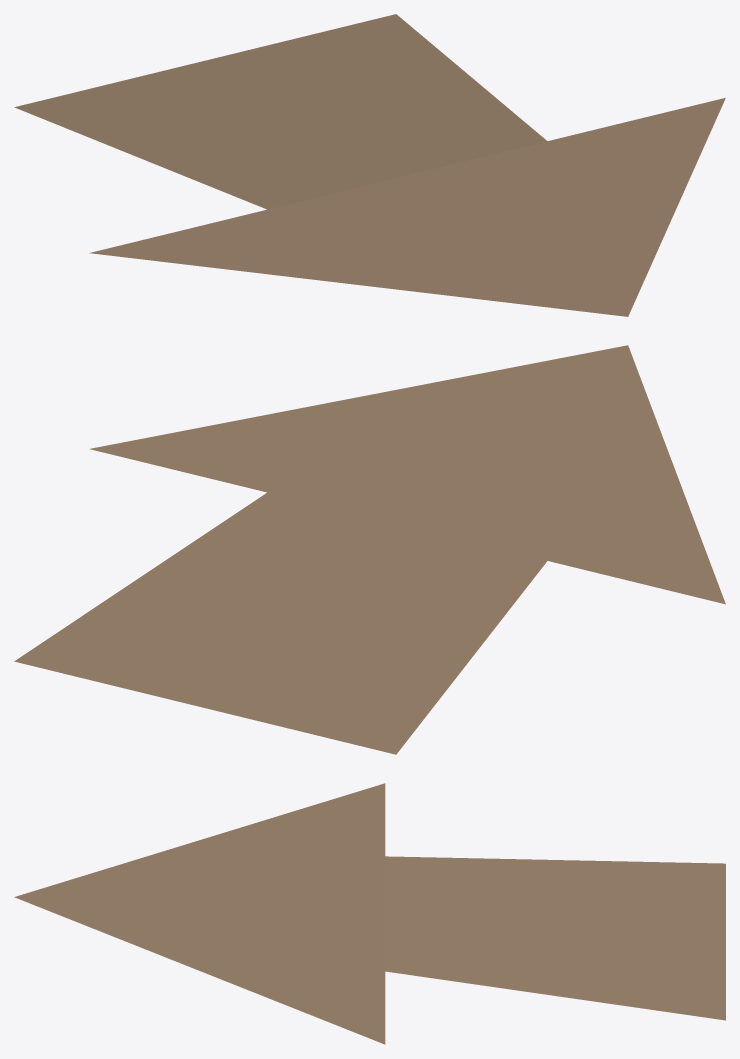
Rendered from trace-marker.glb.
3 views of the same model, one above another, from view 1: azimuth 30°, elevation 25°; view 2: azimuth 150°, elevation 25°; view 3: azimuth 270°, elevation 25° (orthographic). The views are drawn at different scales.
Bounding box in the file's own units: 1 × 0.08 × 1.15.
